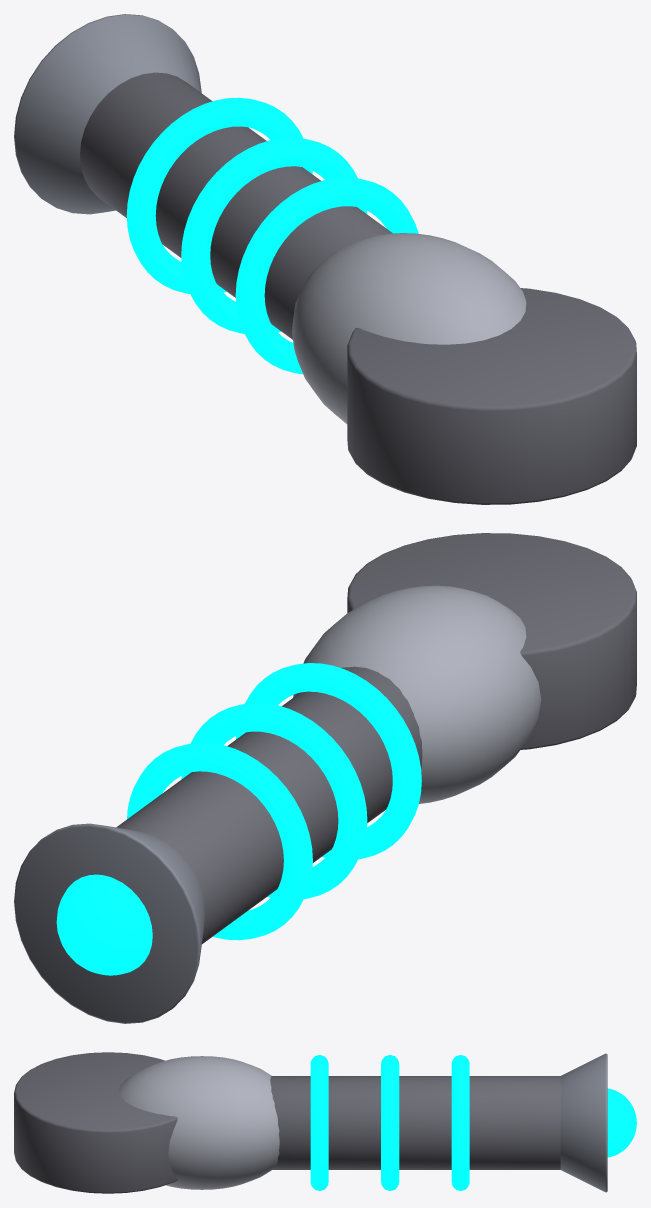
Rendered from plasma_cannon.glb.
The picture shows the model from 3 angles, top to bottom: view 1: azimuth 30°, elevation 25°; view 2: azimuth 150°, elevation 25°; view 3: azimuth 270°, elevation 25°; orthographic projection. The views are drawn at different scales.
Parts seen in each view (by area): view 1: Weapon_PlasmaCannon; view 2: Weapon_PlasmaCannon; view 3: Weapon_PlasmaCannon.
Boxes of the visible parts, x1,y1,x2,y2 form: Weapon_PlasmaCannon: (14, 14, 636, 504); Weapon_PlasmaCannon: (14, 533, 636, 1023); Weapon_PlasmaCannon: (14, 1052, 636, 1193).
Bounding box in the file's own units: 0.16 × 0.1182 × 0.53.
